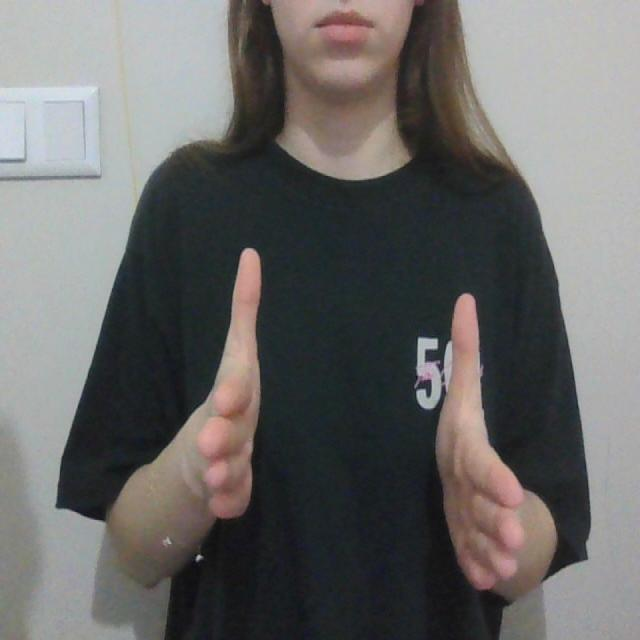Nasil: (181, 247, 535, 600)
